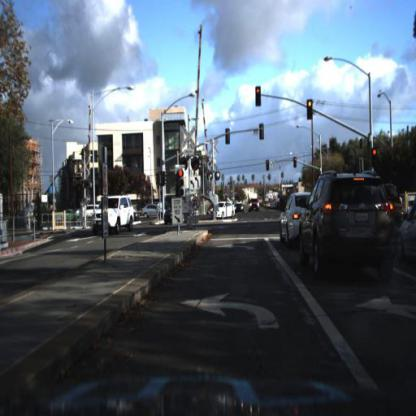car: (300, 169, 402, 289), (278, 191, 319, 249), (90, 191, 137, 237), (93, 195, 133, 235), (276, 192, 301, 247), (141, 204, 164, 225), (213, 201, 238, 219), (164, 205, 184, 225), (141, 202, 164, 218), (167, 204, 179, 226), (249, 195, 263, 213), (249, 198, 264, 213), (235, 198, 245, 218)
pedestrian: (411, 197, 416, 230)
trafficLight-Red: (176, 165, 188, 200), (176, 169, 185, 200), (306, 99, 314, 123), (373, 147, 381, 168), (306, 101, 314, 118), (266, 158, 272, 178), (371, 147, 377, 164), (256, 85, 261, 105), (265, 156, 271, 172), (292, 156, 298, 172), (293, 155, 299, 171)
trafficLight-RedLeft: (255, 85, 263, 106)
